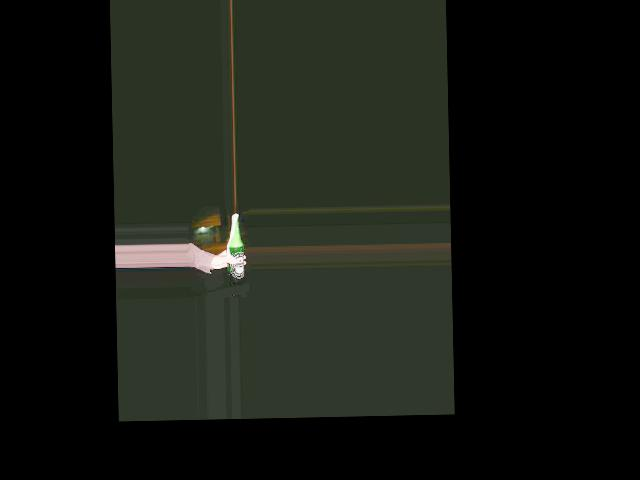beer: (226, 216, 245, 280)
